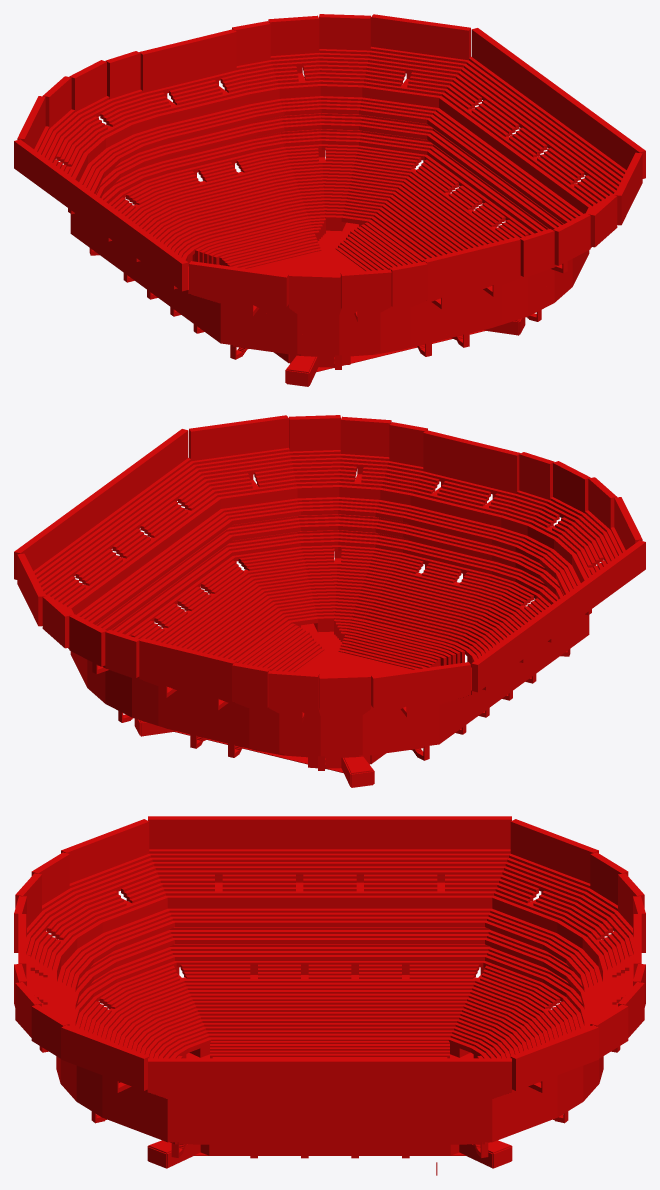
The model's file is StadiumCollider.fbx.
3 renders of one model, top to bottom at view 1: azimuth 30°, elevation 25°; view 2: azimuth 150°, elevation 25°; view 3: azimuth 270°, elevation 25°, orthographic. The views are drawn at different scales.
Parts seen in each view (by area): view 1: StadiumTopCollision, StadiumMiddleCollision, StadiumBaseCollision; view 2: StadiumTopCollision, StadiumMiddleCollision, StadiumBaseCollision; view 3: StadiumTopCollision, StadiumMiddleCollision, StadiumBaseCollision.
Boxes of the visible parts, left/top/right/bottom form: StadiumTopCollision: left=14, top=14, right=645, bottom=322; StadiumMiddleCollision: left=70, top=85, right=589, bottom=355; StadiumBaseCollision: left=89, top=144, right=541, bottom=386; StadiumTopCollision: left=14, top=415, right=645, bottom=723; StadiumMiddleCollision: left=70, top=486, right=589, bottom=756; StadiumBaseCollision: left=118, top=545, right=570, bottom=787; StadiumTopCollision: left=14, top=816, right=645, bottom=1107; StadiumMiddleCollision: left=56, top=897, right=603, bottom=1142; StadiumBaseCollision: left=75, top=961, right=584, bottom=1175.
Bounding box in the file's own units: 11492 × 4027 × 12513.
